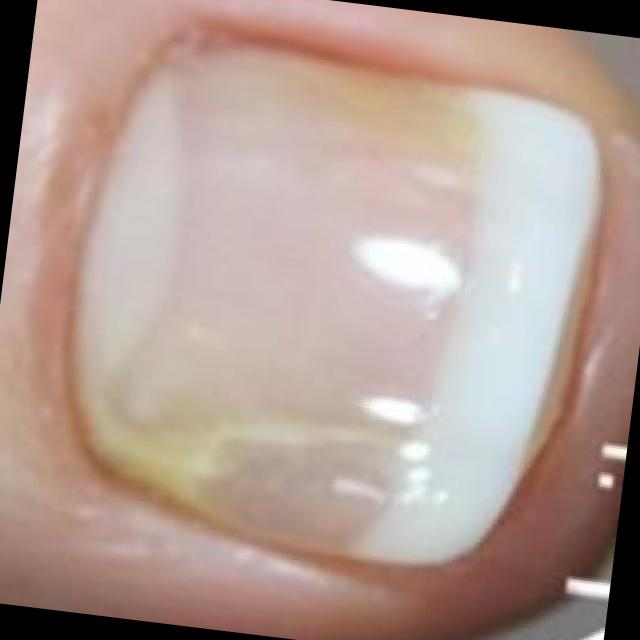Nail: (68, 25, 601, 564)
